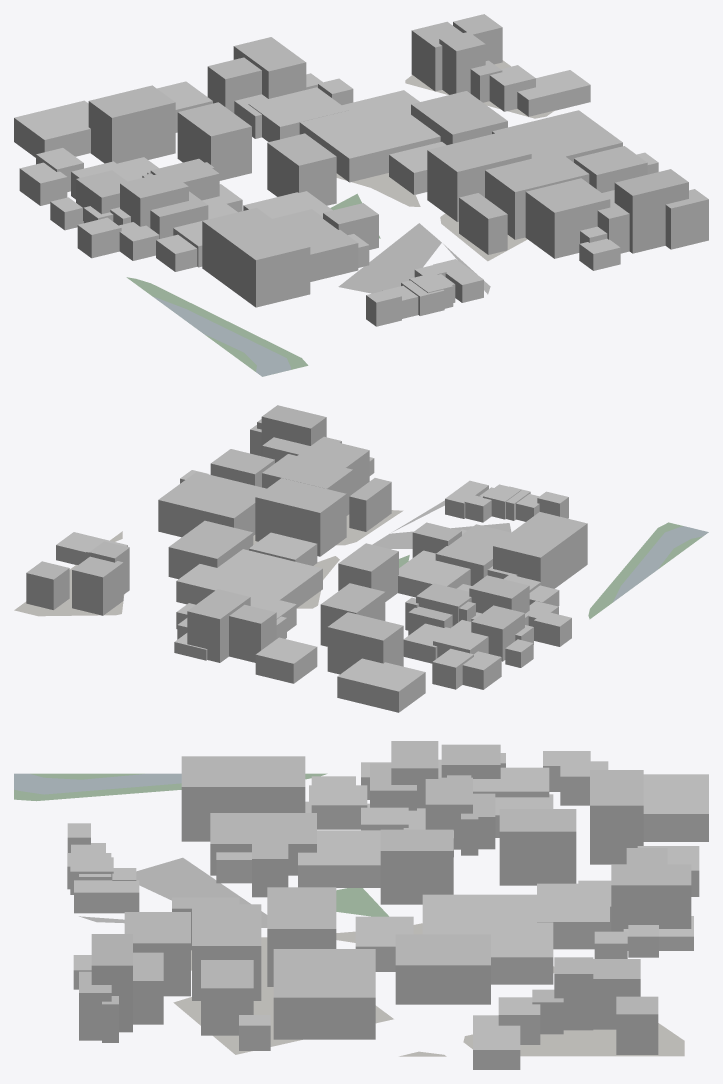
The model's file is 125_108_mid.glb.
3 views of the same model, one above another, from view 1: azimuth 30°, elevation 25°; view 2: azimuth 150°, elevation 25°; view 3: azimuth 270°, elevation 25° (orthographic). The views are drawn at different scales.
Bounding box in the file's own units: 530 × 55.1 × 518.
